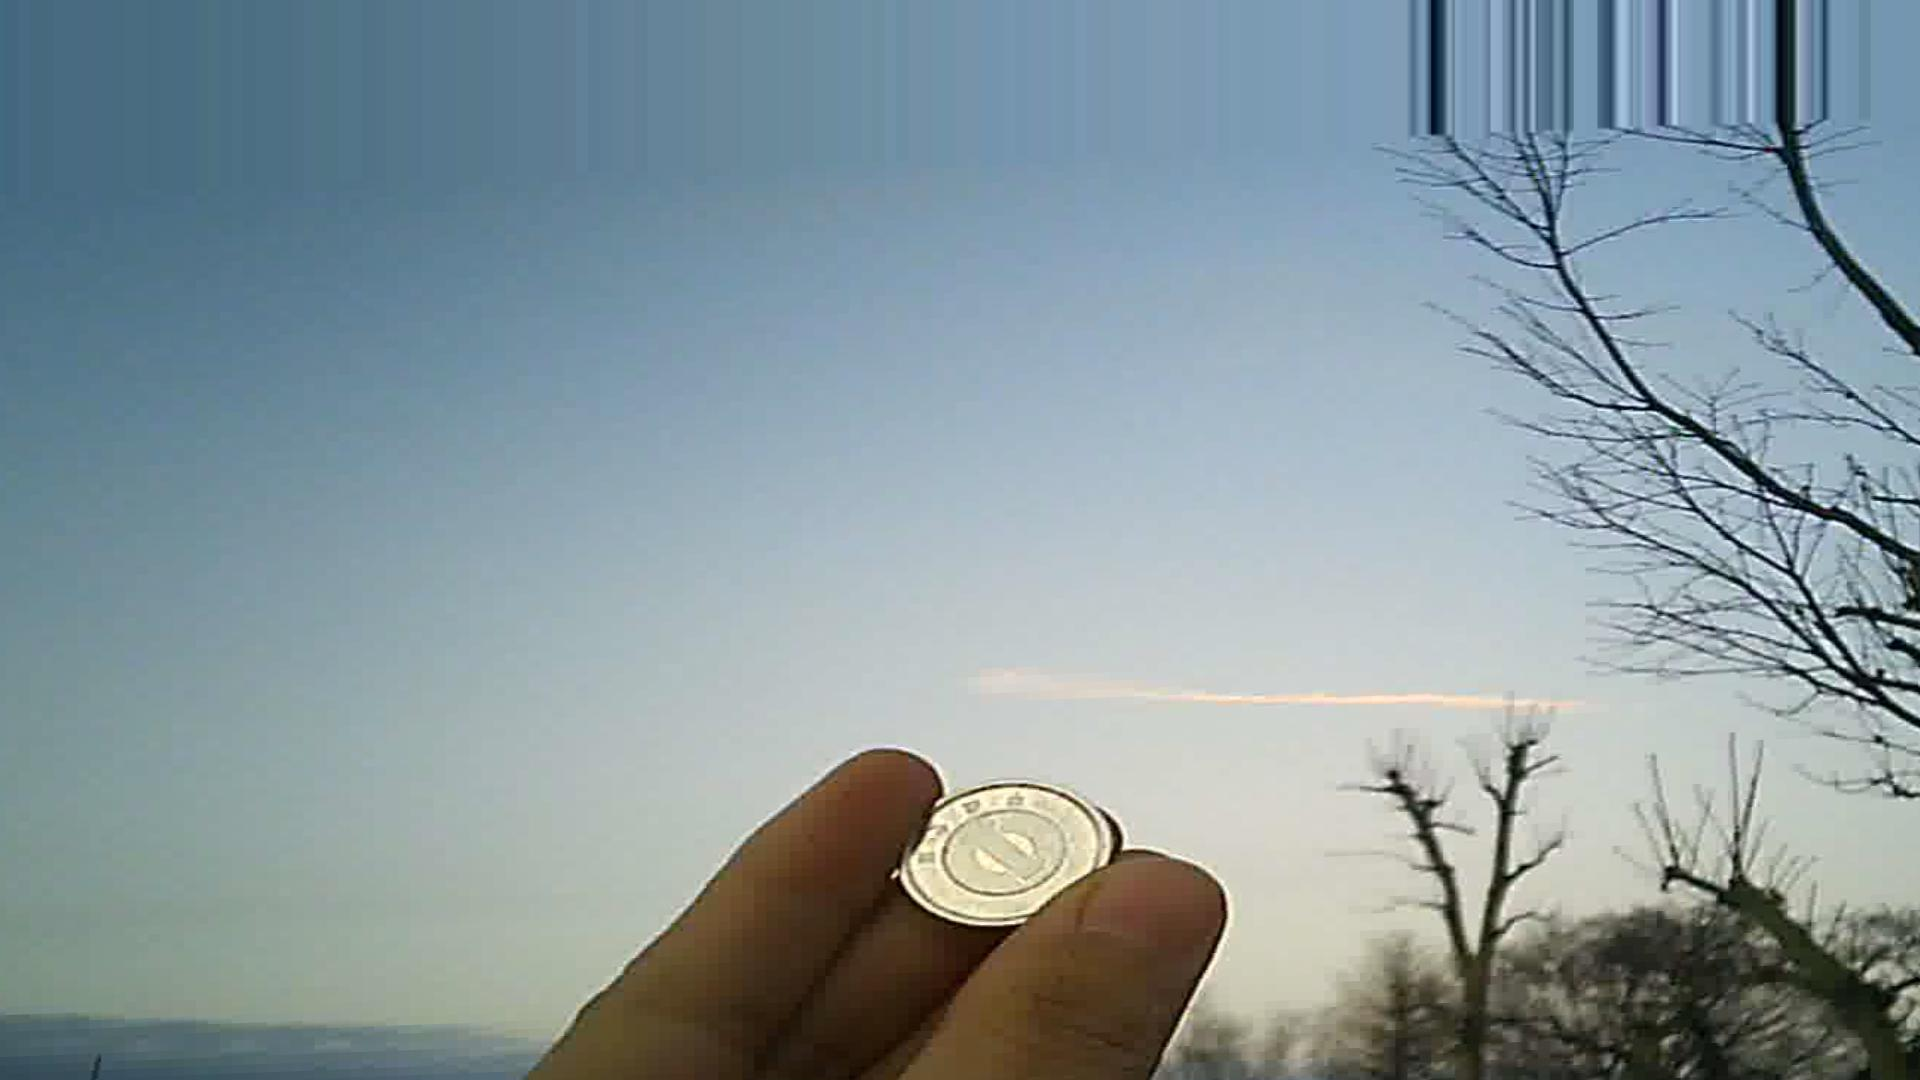1 Yen: (894, 773, 1098, 923)
